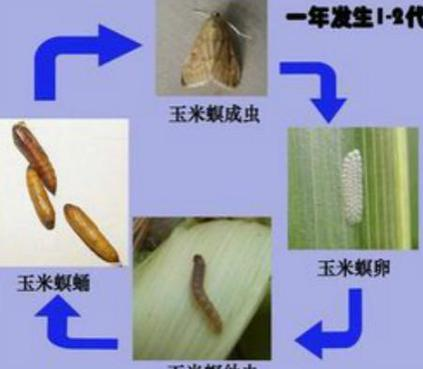pest: (168, 6, 252, 96), (4, 116, 60, 225), (179, 249, 231, 339), (64, 196, 127, 265), (334, 144, 374, 236)
